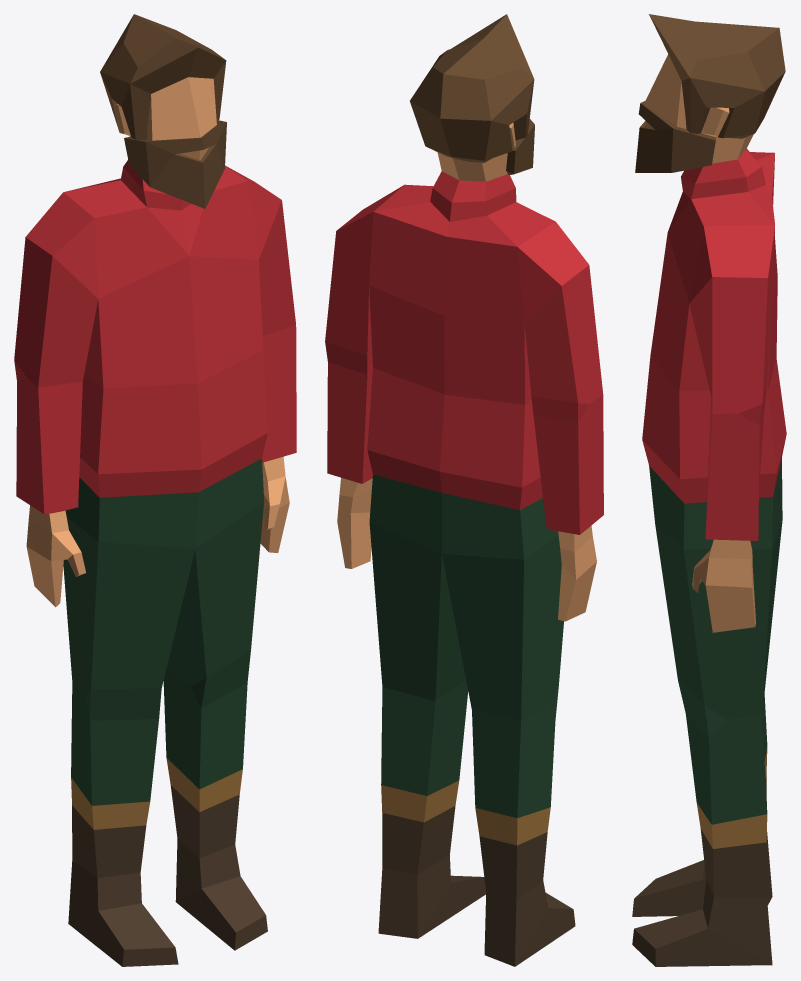
Rendered from man-sweater.glb.
The picture shows the model from 3 angles, left to right: view 1: azimuth 30°, elevation 25°; view 2: azimuth 150°, elevation 25°; view 3: azimuth 270°, elevation 25°; orthographic projection. The views are drawn at different scales.
Parts seen in each view (by area): view 1: man-sweater; view 2: man-sweater; view 3: man-sweater.
Part boxes in pixels (bbox=[...]): man-sweater: bbox=[14, 14, 296, 966]; man-sweater: bbox=[325, 14, 603, 966]; man-sweater: bbox=[632, 14, 786, 966].
Size of the model in its own units: 0.5509 by 1.84 by 0.2817.
1 material, 1 textured.
